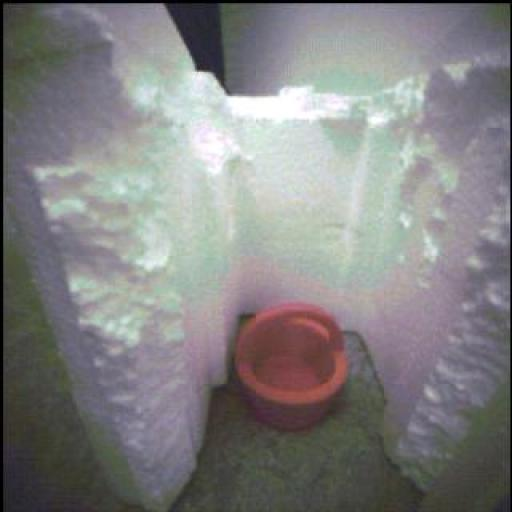Bucket: (236, 304, 348, 432)
